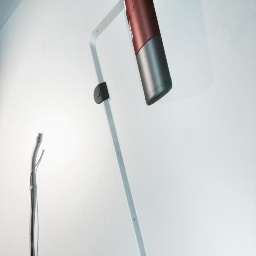NitrogenTank ,: (123, 0, 172, 106)
